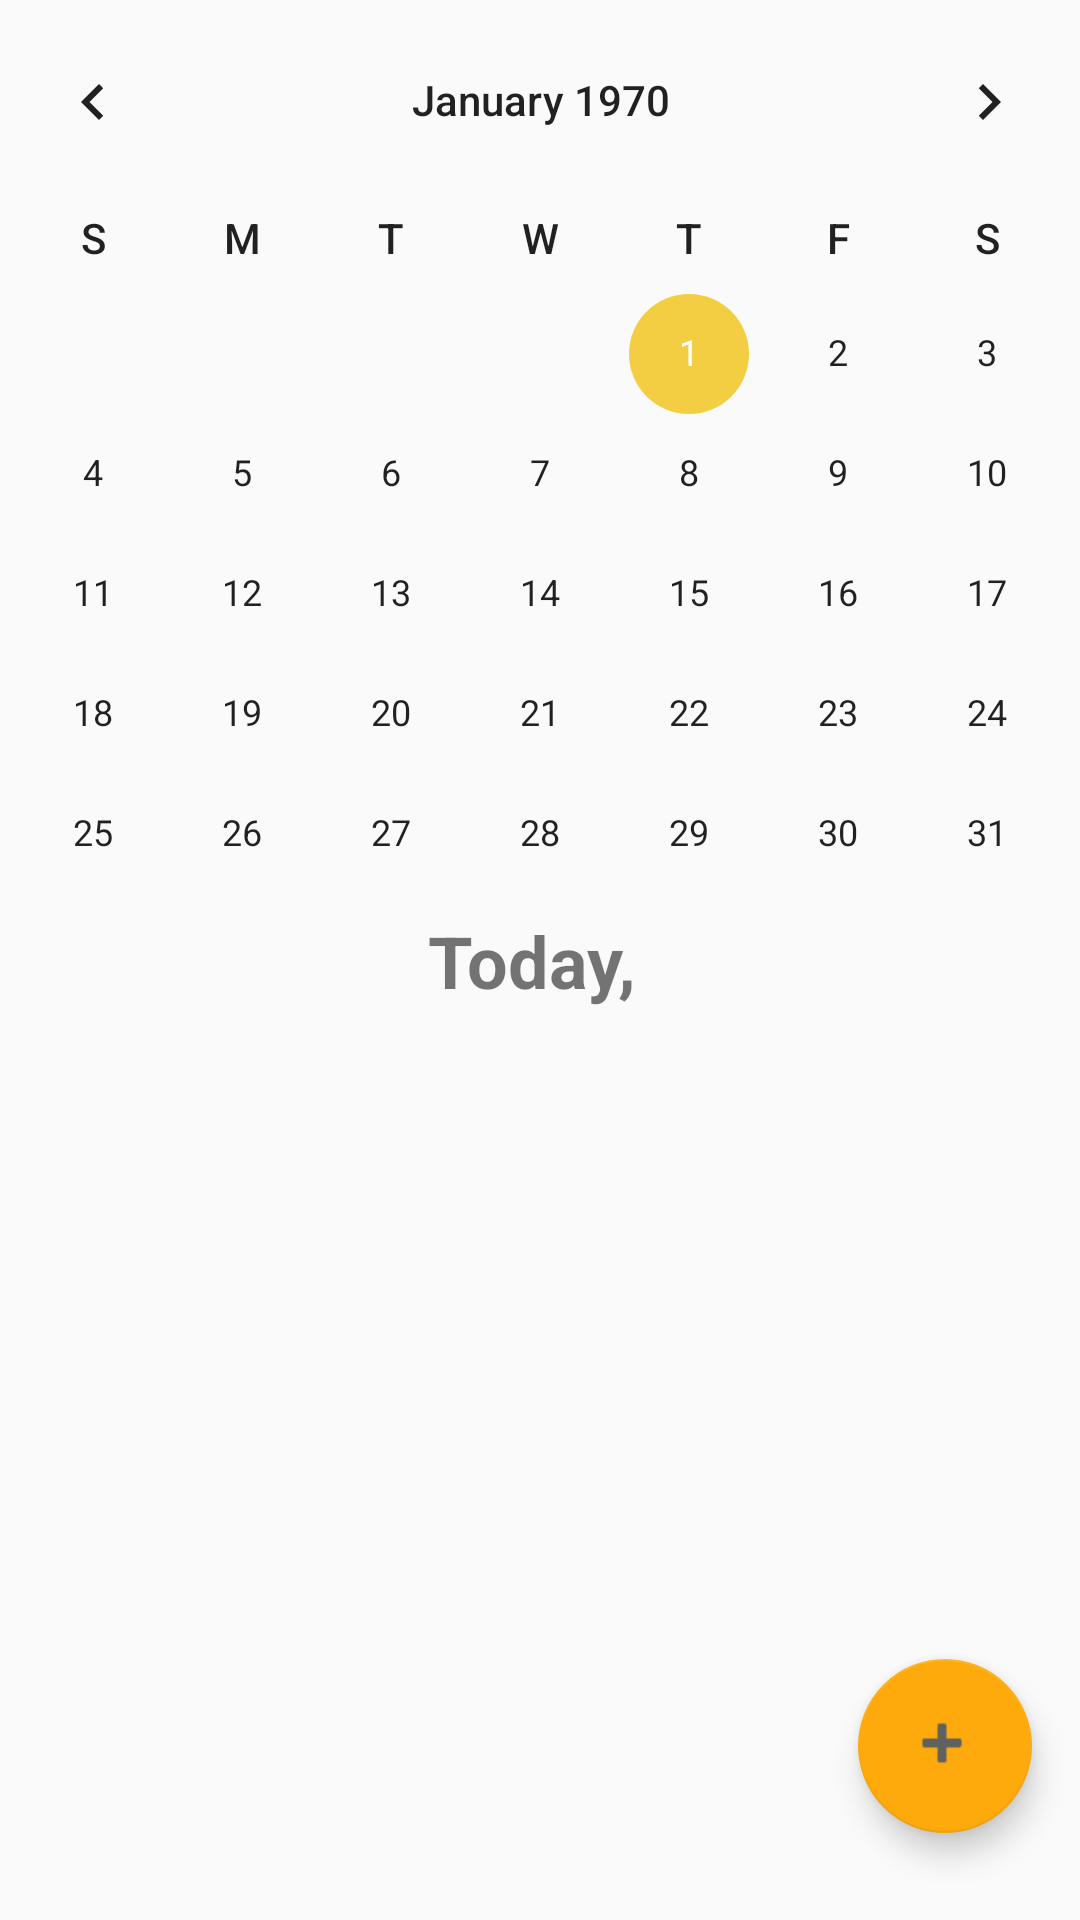

Screen size 1080*1920. Icon name, then its center in pixels as (x=x, y=y):
add: (x=945, y=1746)
